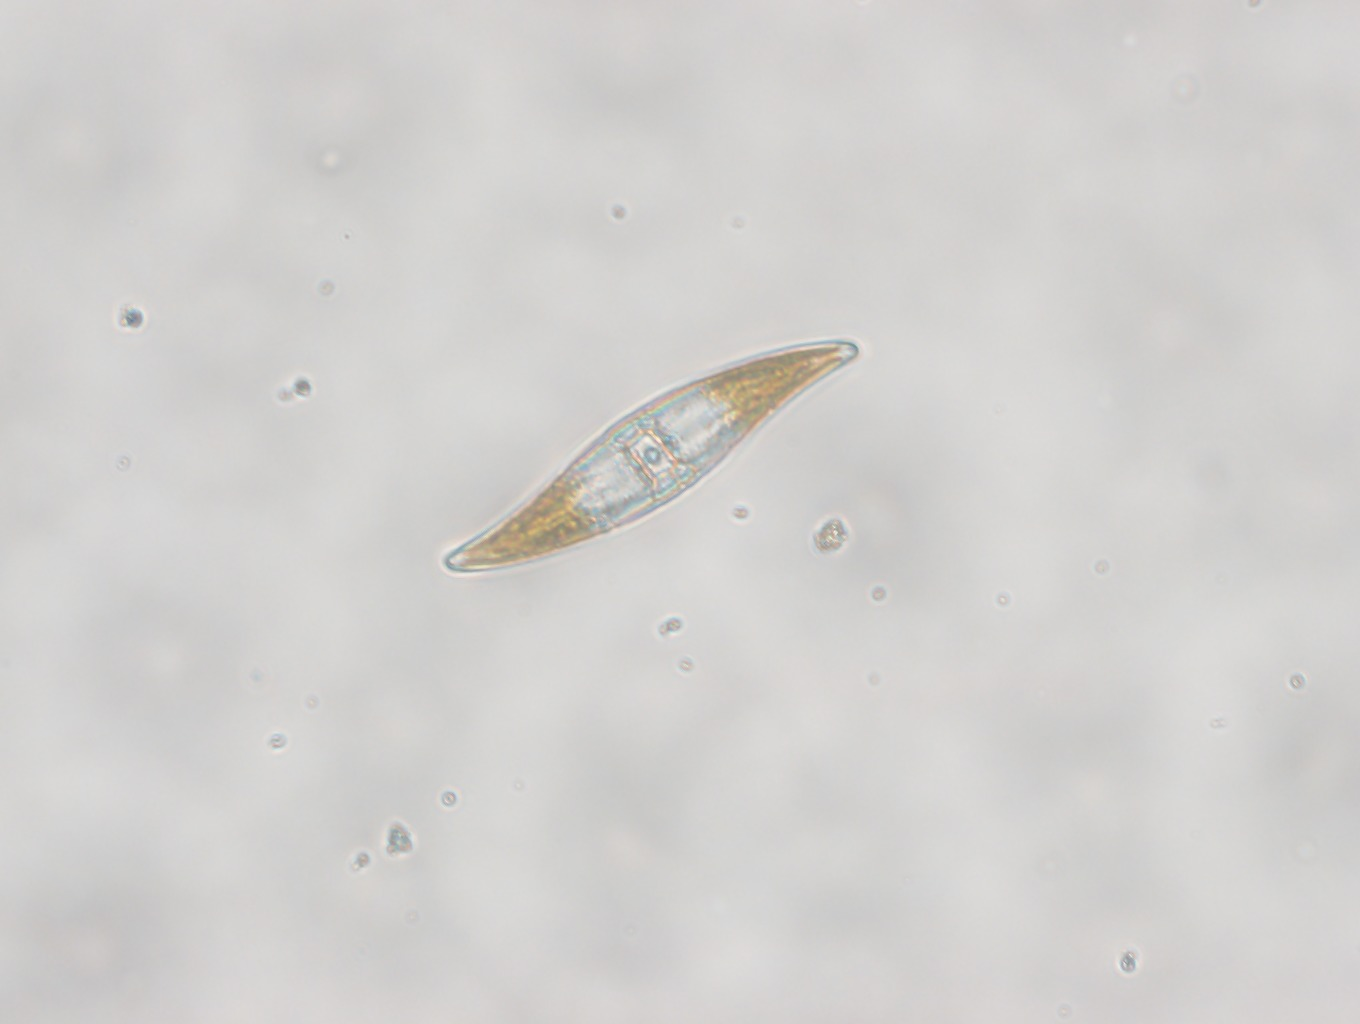pleurosigma pelagicum: (429, 326, 863, 580)
